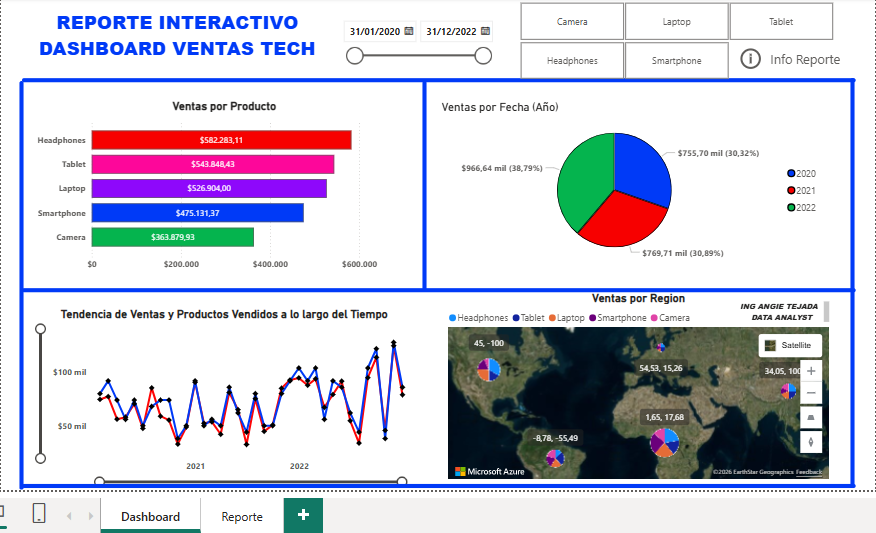

The dashboard page shown, as its layout file describes it:
{"tool":"powerbi","page":{"name":"Dashboard","canvas":[1280,720],"ordinal":0},"visuals":[{"type":"barChart","title":"Ventas por Producto","fields":{"Category":["Worksheet.Producto"],"Y":["Sum(Worksheet.Ventas)"]},"box":[46.7,148.3,560,260],"z":0},{"type":"lineChart","title":"Tendencia de Ventas y Productos Vendidos a lo largo del Tiempo","fields":{"Y":["Sum(Worksheet.Ventas)"],"Category":["Worksheet.Fecha"],"Y2":["CountNonNull(Worksheet.Producto)"]},"box":[47.2,452.8,559.7,266.7],"z":1000},{"type":"azureMap","title":"Ventas por Region","fields":{"Y":["Worksheet.Latitud"],"X":["Worksheet.Longitud"],"Size":["Sum(Worksheet.Ventas)"],"Series":["Worksheet.Producto"]},"box":[650,428.3,566.7,280],"z":2000},{"type":"shape","box":[30,88.3,1220,65],"z":3000},{"type":"pieChart","title":"Ventas por Fecha (Año)","fields":{"Y":["Sum(Worksheet.Ventas)"],"Category":["Worksheet.Fecha.Variación.Jerarquía de fechas.Año","Worksheet.Fecha.Variación.Jerarquía de fechas.Trimestre","Worksheet.Fecha.Variación.Jerarquía de fechas.Mes","Worksheet.Fecha.Variación.Jerarquía de fechas.Día"]},"box":[640,148.6,567.1,244.3],"z":4000},{"type":"shape","box":[1216.7,116.7,60,598.3],"z":5000},{"type":"shape","box":[0,121.7,60,598.3],"z":6000},{"type":"shape","box":[590,121.7,60,306.7],"z":7000},{"type":"shape","box":[30,708.3,1220,11.7],"z":8000},{"type":"shape","box":[30,395,1220,65],"z":9000},{"type":"textbox","box":[30,11.7,455,86.7],"z":10000},{"type":"textbox","box":[1076.7,438.3,140,41.7],"z":11000},{"type":"slicer","fields":{"Values":["Worksheet.Producto"]},"box":[735,0,506.7,125],"z":12000},{"type":"actionButton","box":[1076.7,68.3,155,40],"z":13000},{"type":"slicer","fields":{"Values":["Worksheet.Fecha"]},"box":[488.2,23.1,237.5,77.5],"z":14000}]}

Visuals, with their boxes on the page's 1280x720 design canvas (x1, y1, x2, y2). These are canvas units, not pixel positions in the 876x533 screenshot, which may show the page scaled, cropped or inside an application window:
"Ventas por Producto" barChart: region(47, 148, 607, 408)
"Tendencia de Ventas y Productos Vendidos a lo largo del Tiempo" lineChart: region(47, 453, 607, 720)
"Ventas por Region" azureMap: region(650, 428, 1217, 708)
shape: region(30, 88, 1250, 153)
"Ventas por Fecha (Año)" pieChart: region(640, 149, 1207, 393)
shape: region(1217, 117, 1277, 715)
shape: region(0, 122, 60, 720)
shape: region(590, 122, 650, 428)
shape: region(30, 708, 1250, 720)
shape: region(30, 395, 1250, 460)
textbox: region(30, 12, 485, 98)
textbox: region(1077, 438, 1217, 480)
slicer - Worksheet.Producto: region(735, 0, 1242, 125)
actionButton: region(1077, 68, 1232, 108)
slicer - Worksheet.Fecha: region(488, 23, 726, 101)
